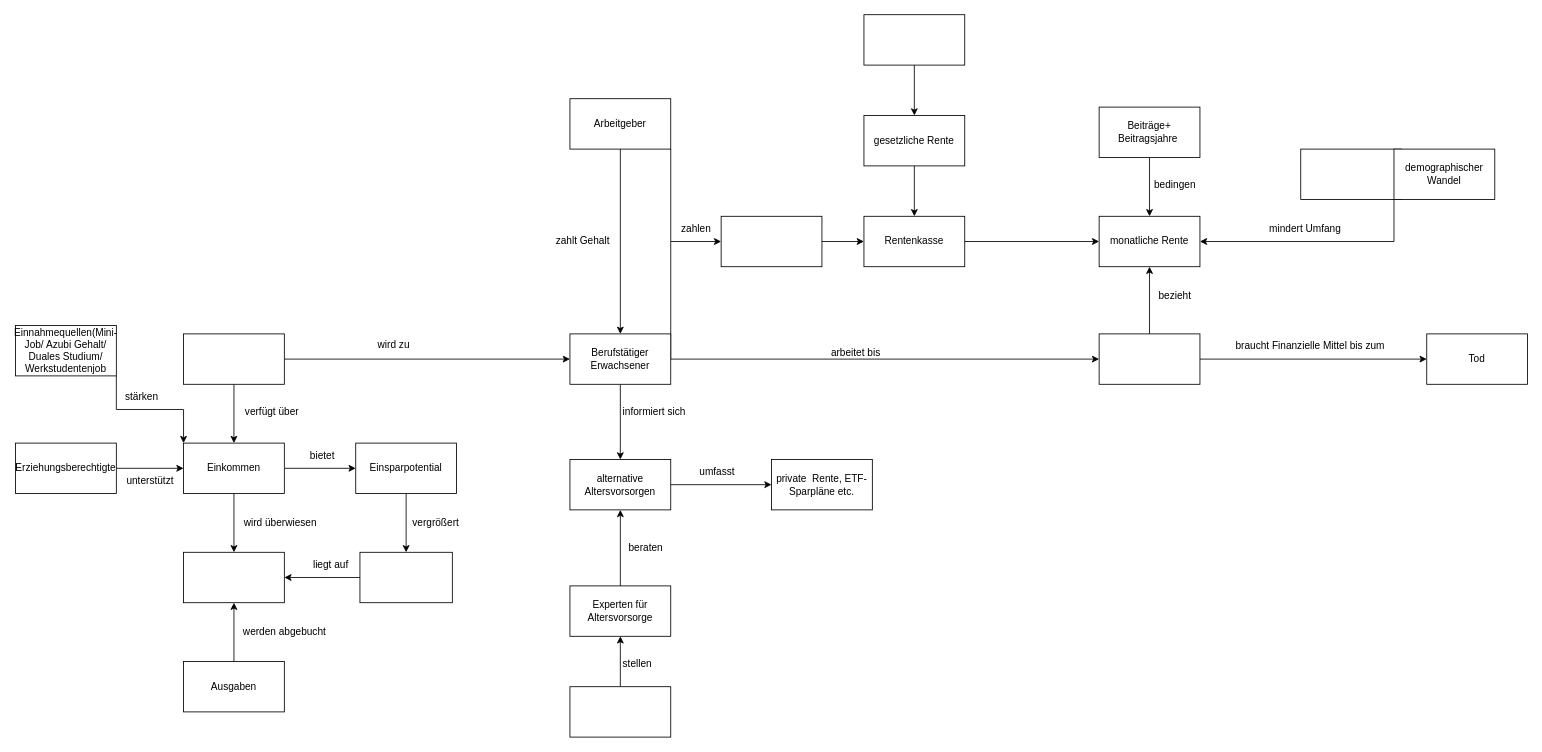
Image size: 1542x752. Some labels were removed from this diagram. The centre of each missing label's shape, as x and y in pixels:
"Banken/ Finanzinstitute" goes at (620,711).
"Beiträge" goes at (771,241).
"Erwachsener nach Renteneintritt" goes at (1149,358).
"Inflation" goes at (1351,174).
"junger Erwachsener" goes at (233,358).
"Konto" goes at (233,577).
"Regierung" goes at (914,39).
"Vermögen" goes at (405,577).
